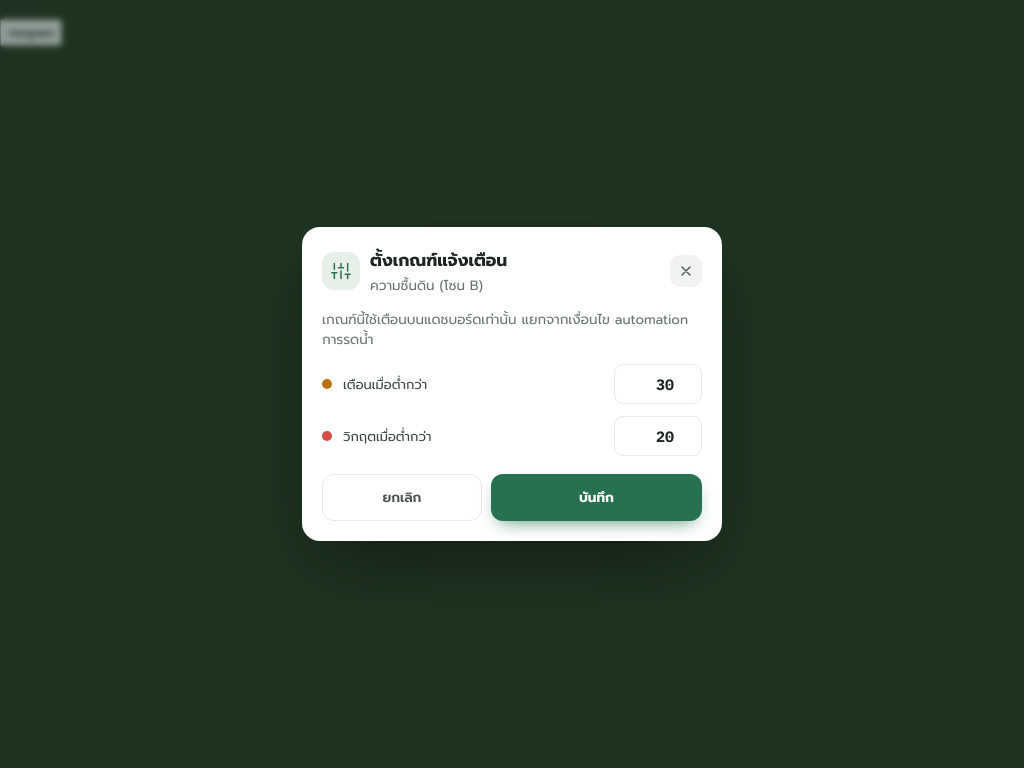
ThresholdModal › กดบันทึกแล้วค่าถูกเก็บจริงและหน้าต่างปิด
Replace the text in the number field labelled "เตือนเมื่อต่ำกว่า" with "45" at (658, 384), box x1=614 y1=364 x2=702 y2=404
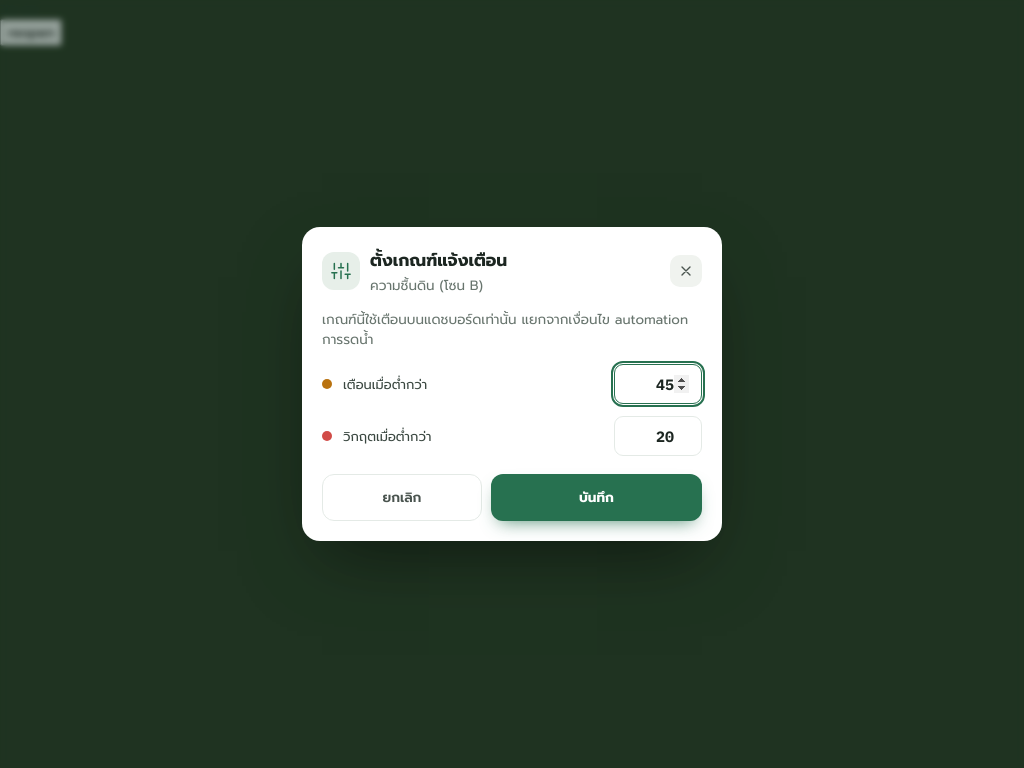
Replace the text in the number field labelled "วิกฤตเมื่อต่ำกว่า" with "28" at (658, 436), box x1=614 y1=416 x2=702 y2=456
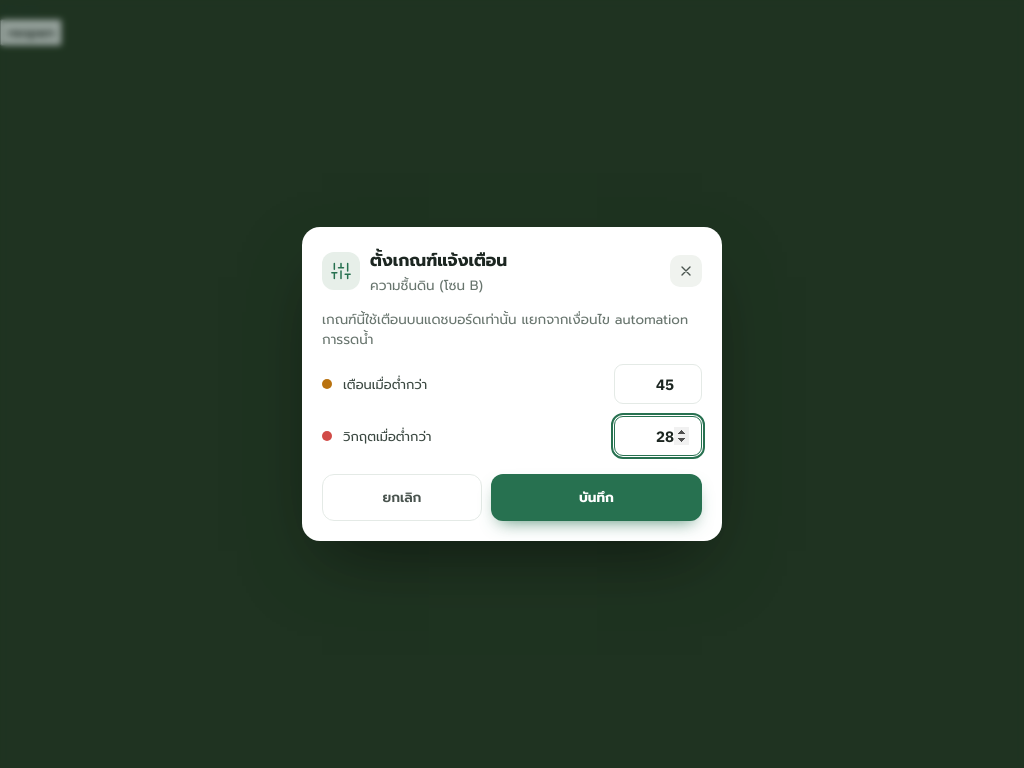
Click the button "บันทึก" at (596, 498), box x1=491 y1=474 x2=702 y2=521
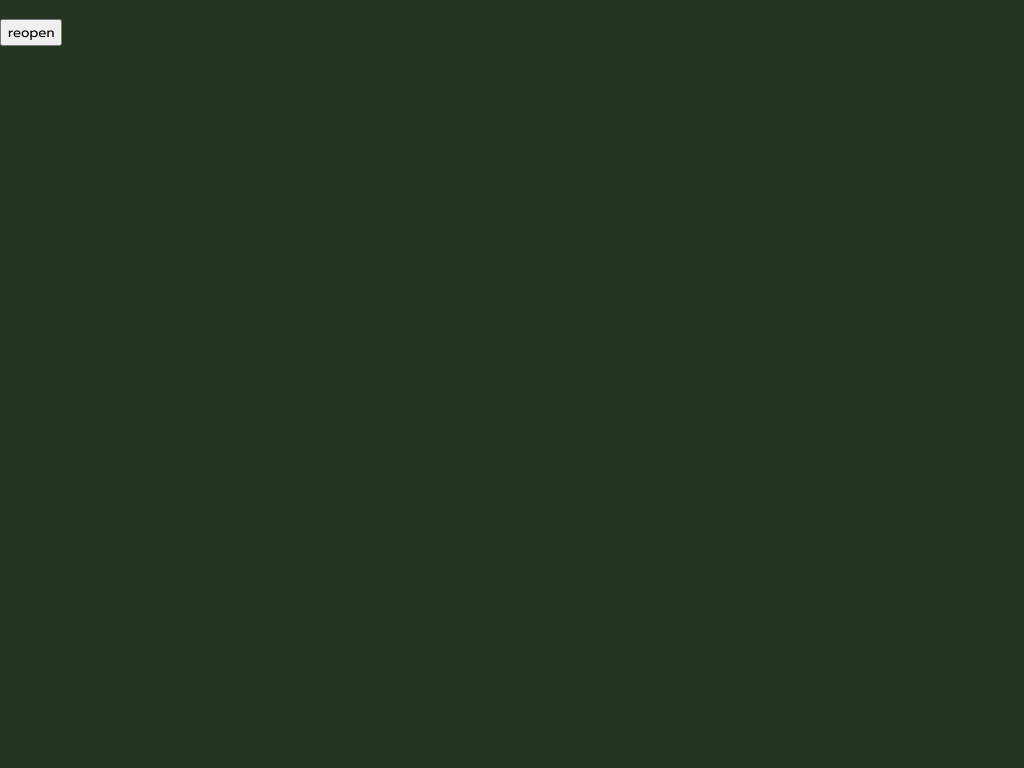
Check: the heading "ตั้งเกณฑ์แจ้งเตือน" is gone
